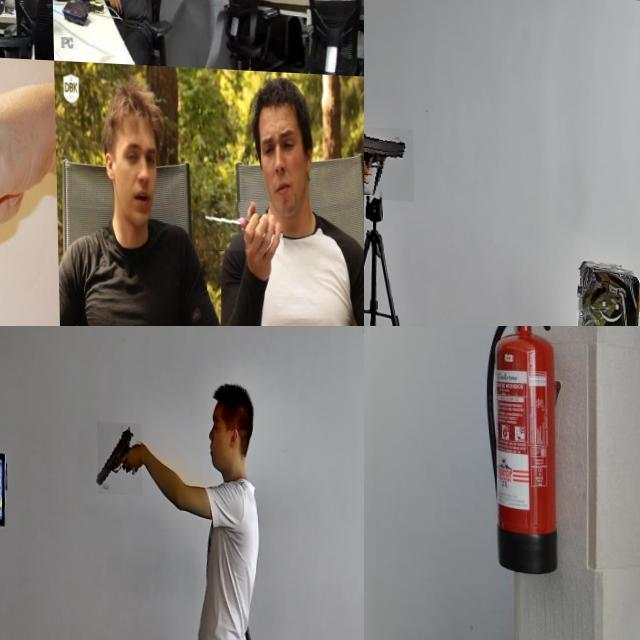-: (0, 131, 103, 326), (196, 193, 281, 247), (364, 544, 400, 583), (197, 0, 212, 24), (0, 0, 10, 18)
gun-knife-thesis - v11 Yolov5 augmented: (364, 122, 413, 197), (96, 419, 142, 494)
